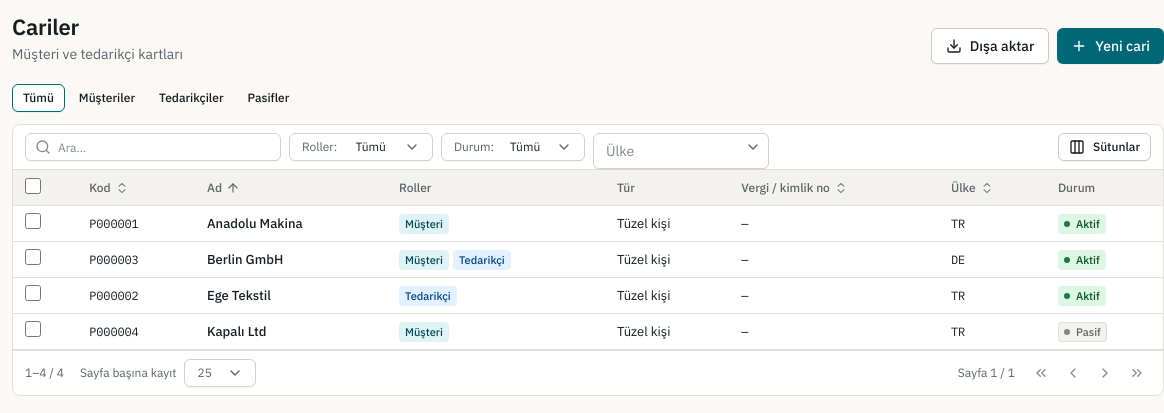
Scenario: PartyListPage › lists parties with role badges and filters by preset view
Expected: the table named "Cari listesi" is shown, [13,170,1163,350]
Expected: the link "Anadolu Makina" is shown, [207,214,303,232]
Click the button "Tedarikçiler".
click(191, 98)  # box [149,84,234,112]
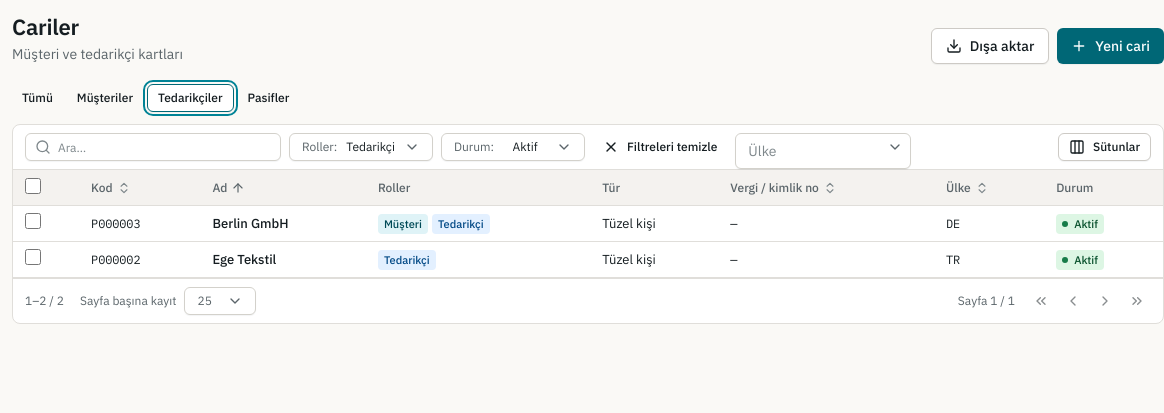
Expected: the link "Ege Tekstil" is shown, [212,250,276,268]
Now the link "Anadolu Makina" is gone
